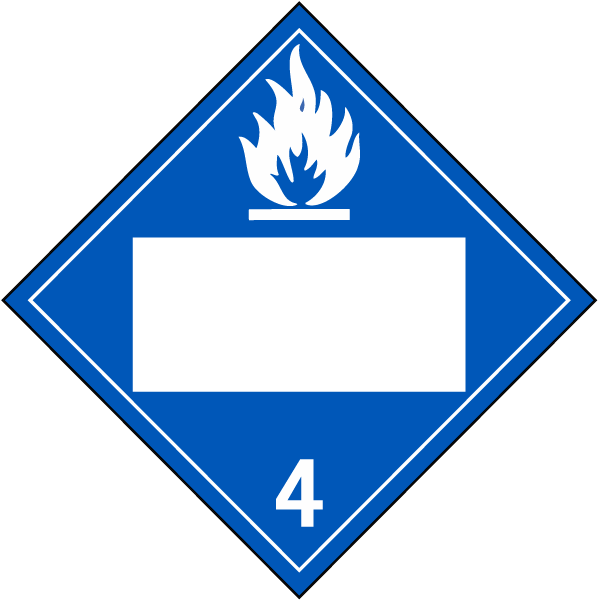Dangerous when wet: (1, 1, 598, 600)
